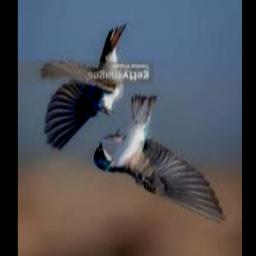Swallow: (94, 95, 227, 226), (41, 26, 126, 150)
